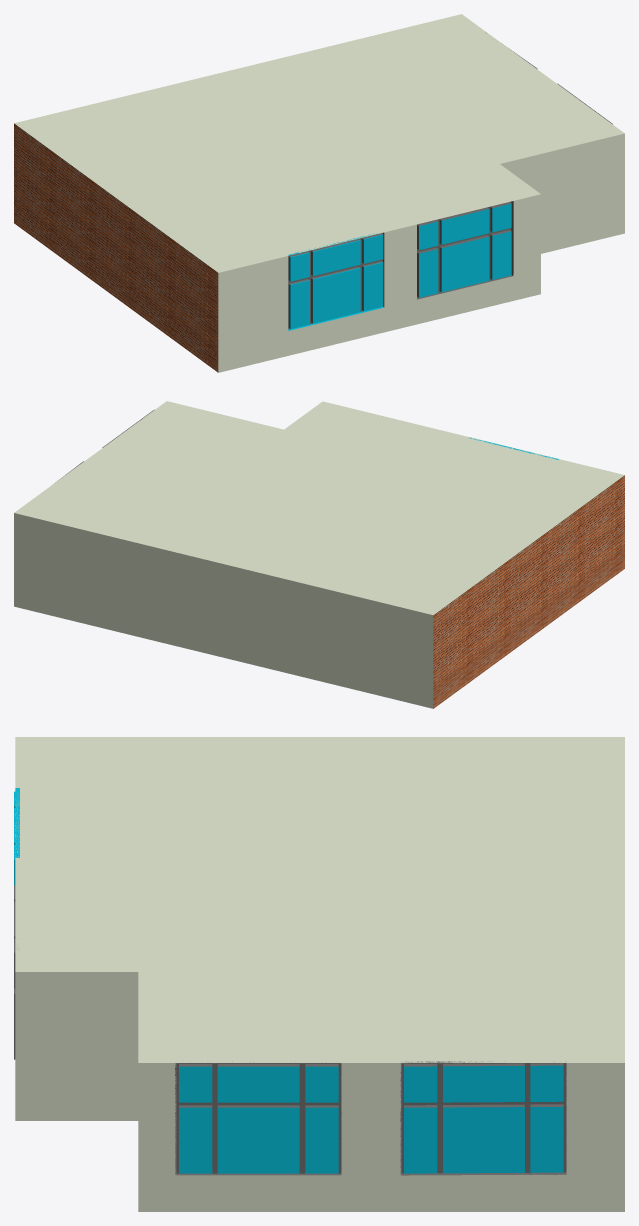
Rendered from ESCENARIOBIENHECHOMAPEADO.fbx.
3 renders of one model, top to bottom at view 1: azimuth 30°, elevation 25°; view 2: azimuth 150°, elevation 25°; view 3: azimuth 270°, elevation 25°, orthographic. The views are drawn at different scales.
Parts seen in each view (by area): view 1: TECHO, PAREDES, VENTANA, VENTANA.001; view 2: TECHO, PAREDES; view 3: TECHO, PAREDES, VENTANA.002, VENTANA.003, PISO.
Boxes of the visible parts, <box> form: TECHO: <box>14,14,624,272</box>; PAREDES: <box>14,123,624,372</box>; VENTANA: <box>288,232,384,330</box>; VENTANA.001: <box>417,201,512,299</box>; TECHO: <box>14,401,624,615</box>; PAREDES: <box>14,475,624,708</box>; TECHO: <box>15,737,624,1062</box>; PAREDES: <box>15,972,624,1211</box>; VENTANA.002: <box>176,1061,341,1175</box>; VENTANA.003: <box>401,1061,566,1175</box>; PISO: <box>175,1063,566,1174</box>.
Size of the model in its own units: 1882 by 400 by 1486.
5 materials, 2 textured.
